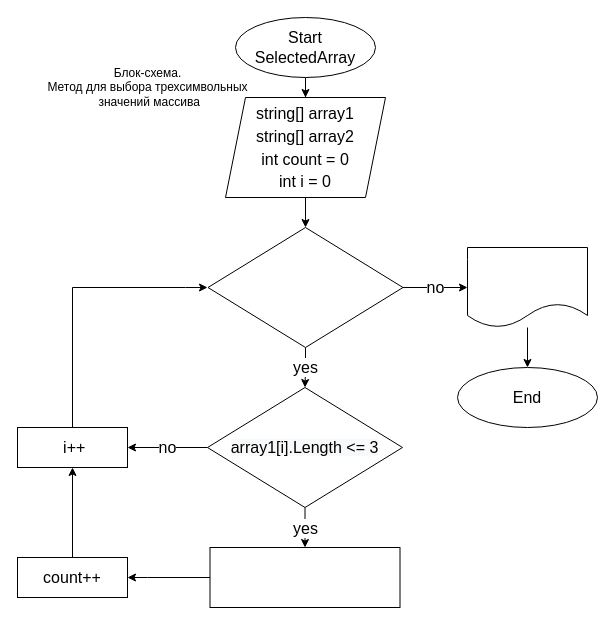
This 615x625 diagram has some shape labels left out. The shapes that lost their labels are listed below. From the top down, each one's centre as x and y in pixels, then its label:
At pixel 305 287: "i < array1.Length".
At pixel 527 287: "PrintArray (array2)".
At pixel 304 577: "array2[count] = array1[i]".
